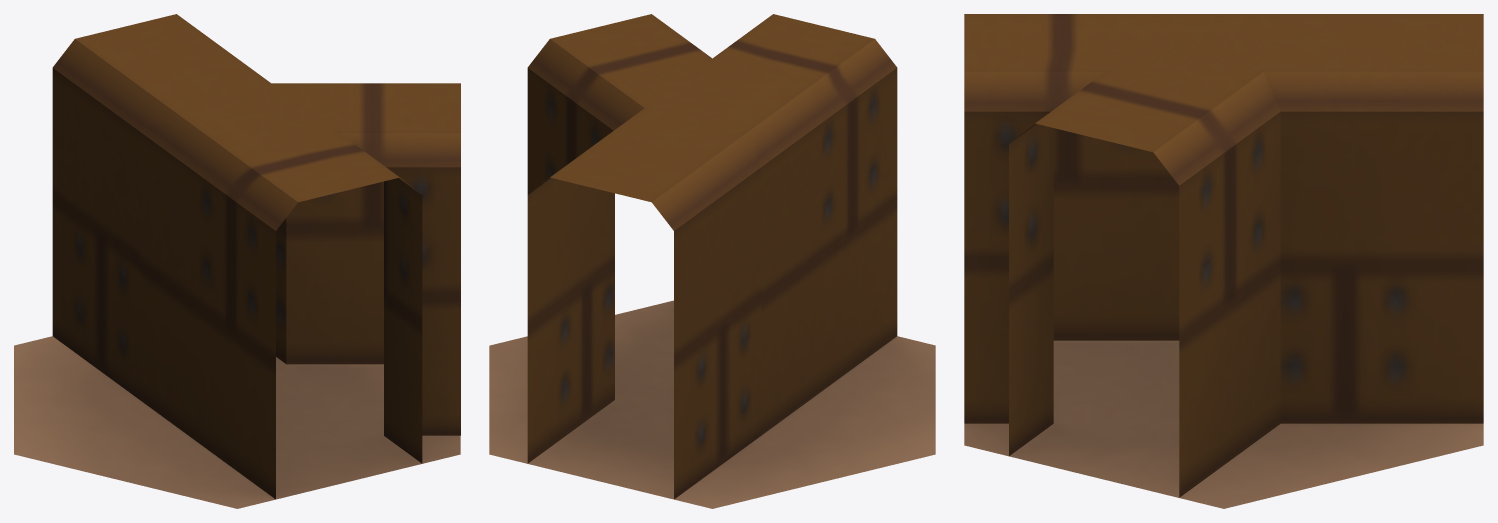
The model's file is Barriere_YB.FBX.
The picture shows the model from 3 angles, left to right: view 1: azimuth 30°, elevation 25°; view 2: azimuth 150°, elevation 25°; view 3: azimuth 270°, elevation 25°; orthographic projection. The views are drawn at different scales.
Visible parts, largest first — view 1: Barriere_YB; view 2: Barriere_YB; view 3: Barriere_YB.
Part boxes in pixels (box(x1,y1,x2,y2)): Barriere_YB: box(14, 14, 460, 508); Barriere_YB: box(489, 14, 935, 508); Barriere_YB: box(964, 14, 1483, 508).
Bounding box in the file's own units: 1 × 0.6247 × 0.8663.
